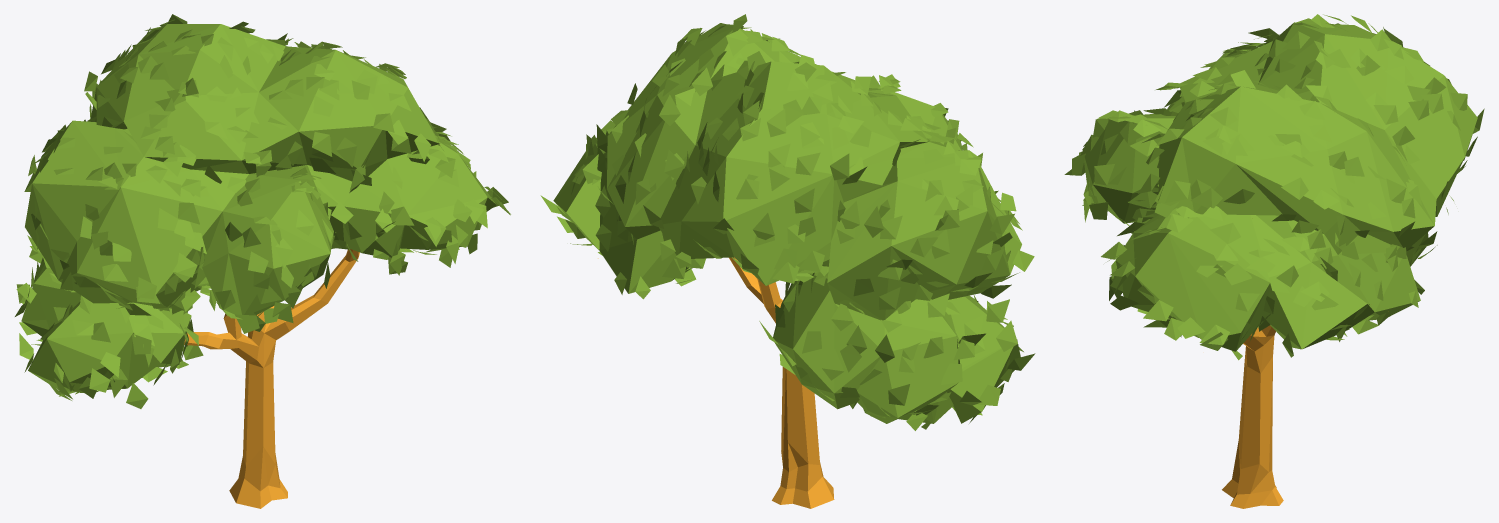
File: SM_Tree_Apple_Mature_A.fbx
The picture shows the model from 3 angles, left to right: view 1: azimuth 30°, elevation 25°; view 2: azimuth 150°, elevation 25°; view 3: azimuth 270°, elevation 25°; orthographic projection. The views are drawn at different scales.
Visible parts, largest first — view 1: tree-apple-mature-a; view 2: tree-apple-mature-a; view 3: tree-apple-mature-a.
Part boxes in pixels (x1=…): tree-apple-mature-a: x1=15, y1=14, x2=510, y2=508; tree-apple-mature-a: x1=540, y1=14, x2=1035, y2=508; tree-apple-mature-a: x1=1064, y1=14, x2=1484, y2=508.
Size of the model in its own units: 5.33 by 5.2 by 4.27.
